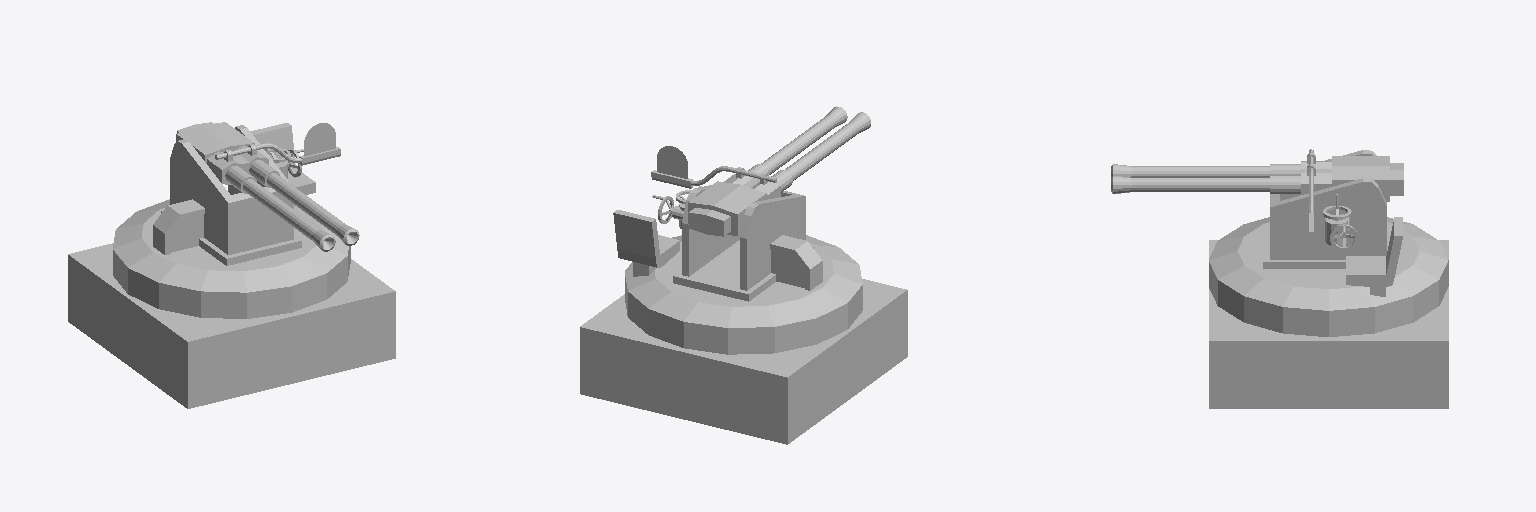
File: antiair.obj
3 views of the same model, side by side, from view 1: azimuth 30°, elevation 25°; view 2: azimuth 150°, elevation 25°; view 3: azimuth 270°, elevation 25° (orthographic).
Parts seen in each view (by area): view 1: Base_Cube; view 2: Base_Cube; view 3: Base_Cube.
Boxes of the visible parts, x1=… form: Base_Cube: x1=68, y1=122, x2=395, y2=408; Base_Cube: x1=580, y1=106, x2=907, y2=444; Base_Cube: x1=1111, y1=149, x2=1448, y2=408.
Size of the model in its own units: 2.61 by 2.44 by 3.66.